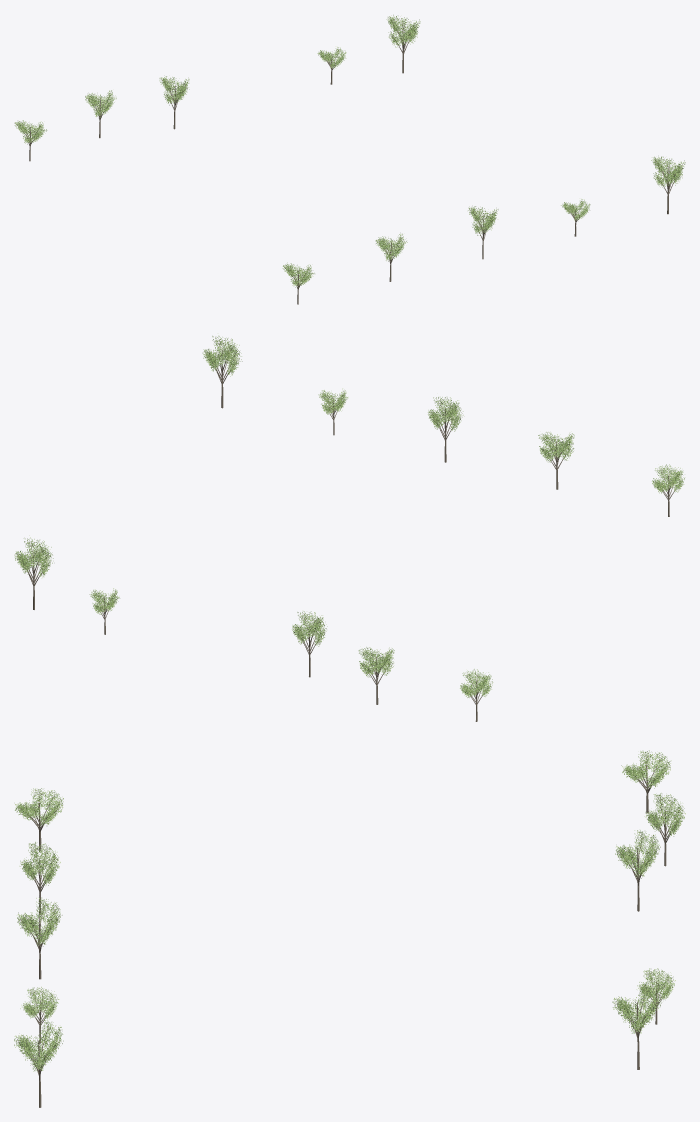
Rendered from 20261103-public-planting-1.glb.
3 views of the same model, one above another, from view 1: azimuth 30°, elevation 25°; view 2: azimuth 150°, elevation 25°; view 3: azimuth 270°, elevation 25° (orthographic). The views are drawn at different scales.
Size of the model in its own units: 82.83 by 9.95 by 75.24.
